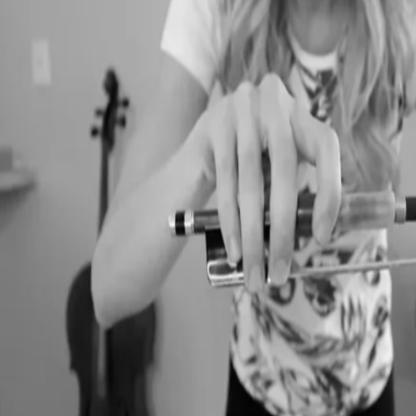good: (195, 55, 351, 308)
